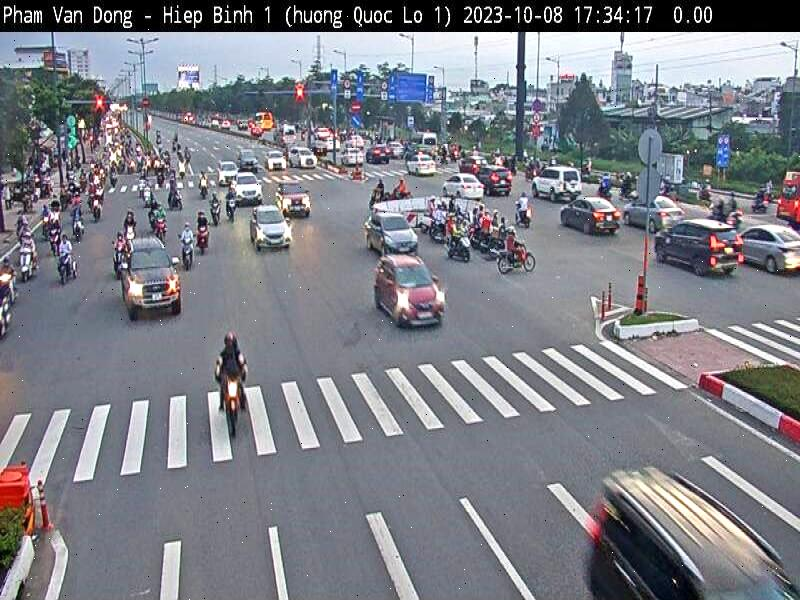bus: (776, 167, 800, 228)
car: (575, 437, 795, 600), (365, 240, 448, 342), (112, 223, 190, 324), (651, 208, 738, 281), (731, 197, 800, 280), (244, 201, 298, 271), (559, 191, 623, 244), (618, 186, 681, 231), (366, 209, 421, 258), (438, 164, 486, 204), (530, 163, 576, 202), (228, 171, 261, 211), (291, 144, 320, 176), (211, 156, 241, 184), (411, 150, 433, 180), (262, 152, 286, 175)
motorcycle: (212, 382, 258, 449), (493, 248, 540, 282), (447, 232, 481, 262), (53, 251, 83, 279), (108, 246, 133, 278), (179, 239, 203, 270), (194, 227, 217, 249)
